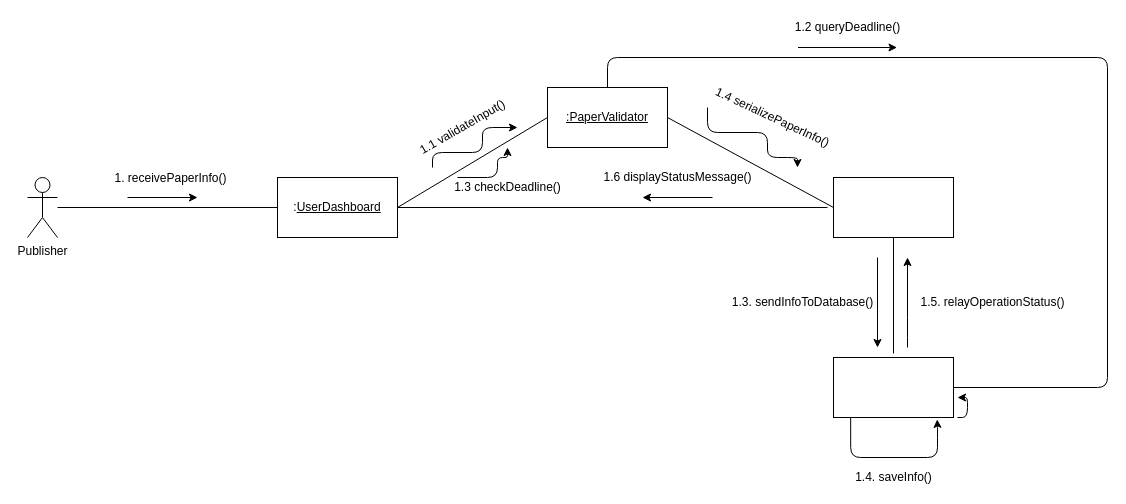
This 1126x504 diagram has some shape labels left out. The centre of each missing label's shape, as x and y in pixels:
: BackendService: point 893,207
: DatabaseServer: point 893,387
